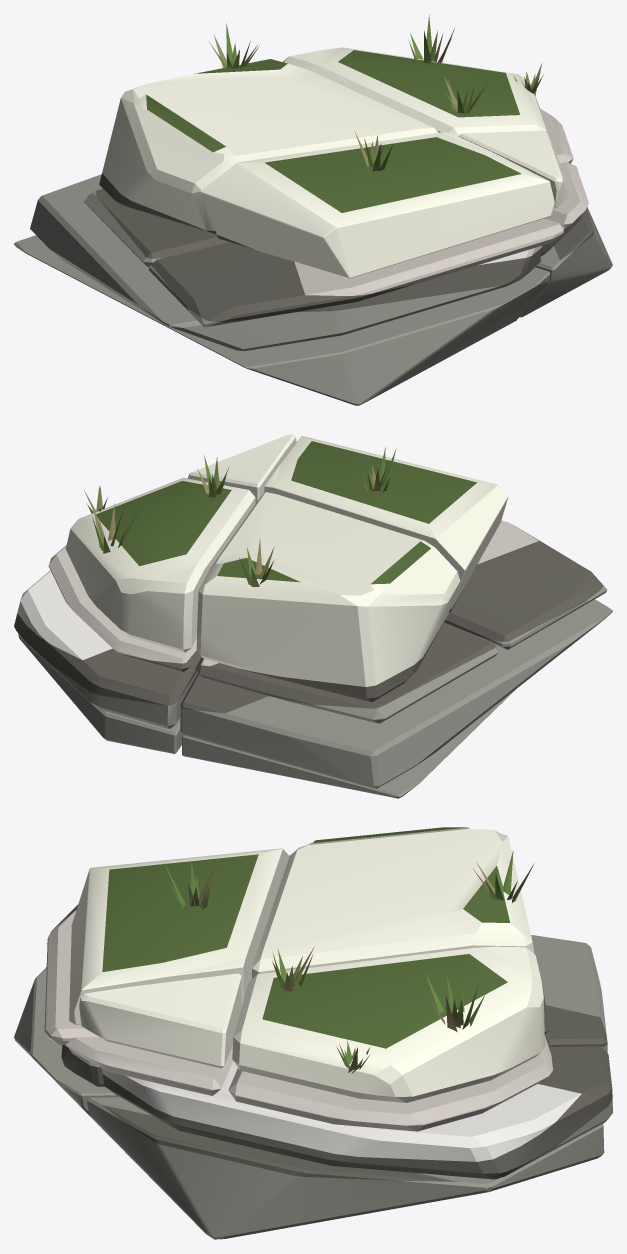
Rendered from rock_b.glb.
The picture shows the model from 3 angles, top to bottom: view 1: azimuth 30°, elevation 25°; view 2: azimuth 150°, elevation 25°; view 3: azimuth 270°, elevation 25°; orthographic projection. The views are drawn at different scales.
Parts seen in each view (by area): view 1: rock_b_body; view 2: rock_b_body; view 3: rock_b_body.
Part boxes in pixels (x1,y1,x2,y2): rock_b_body: (14,14,612,405); rock_b_body: (14,434,612,798); rock_b_body: (14,827,612,1239).
Size of what is drawn, in the model's own units: 2.92 by 1.19 by 2.71.
